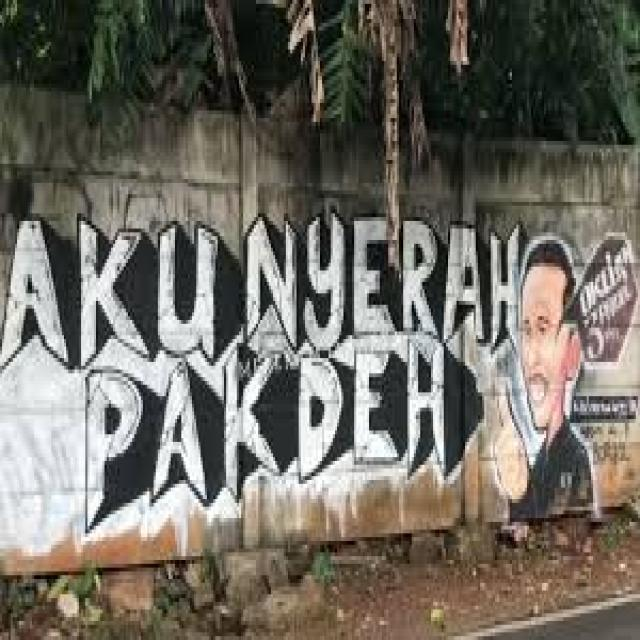-: (0, 217, 518, 537), (492, 236, 640, 521)
